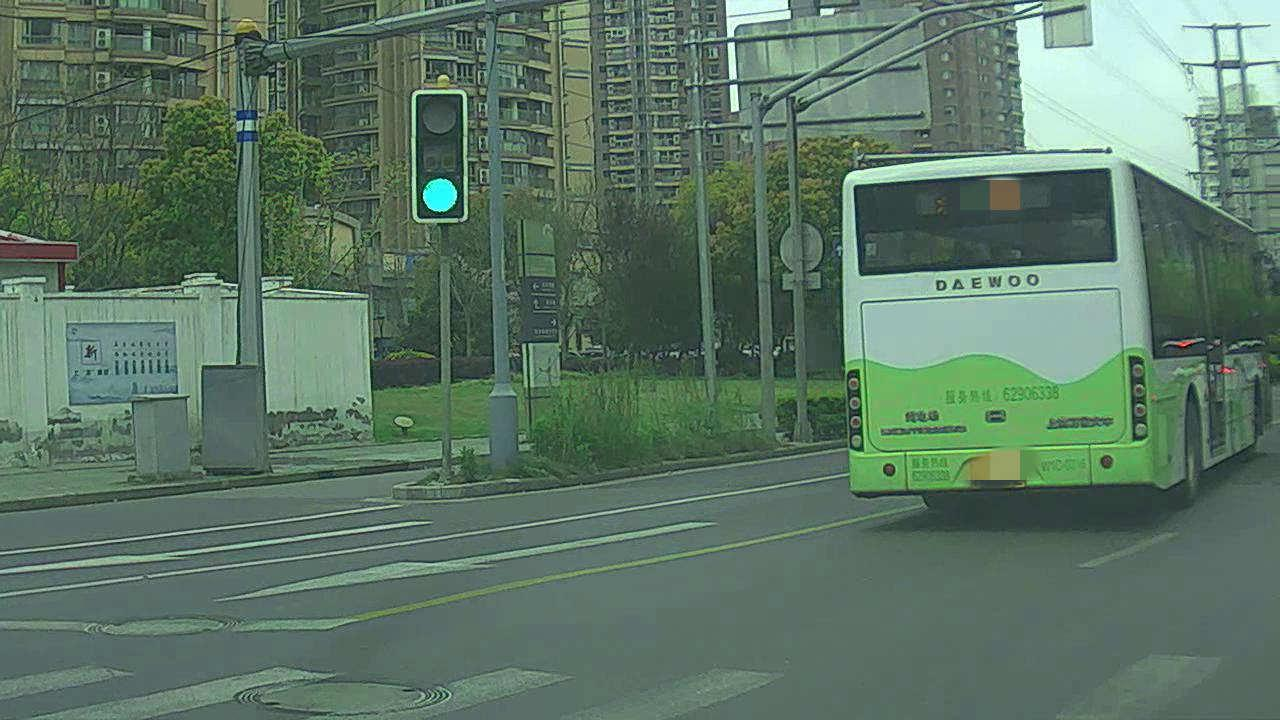traffic_light: (415, 94, 470, 224)
